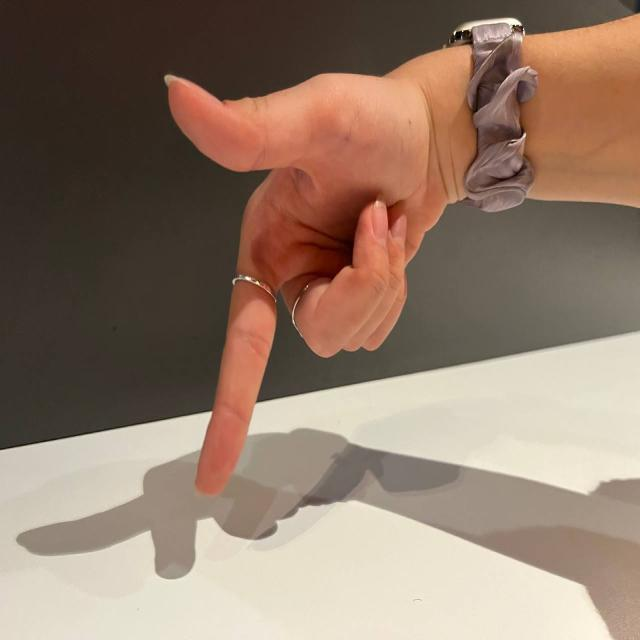g: (162, 63, 430, 487)
